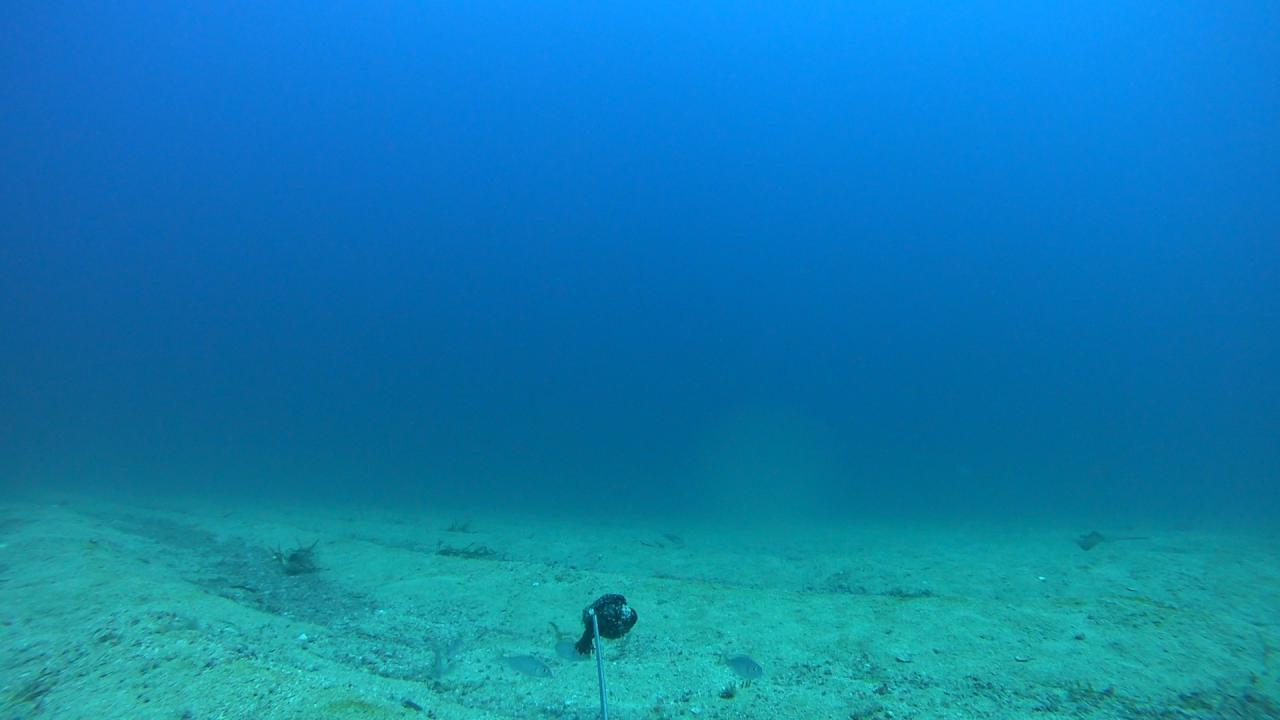dasyatis: (1072, 530, 1150, 550)
pagellus: (482, 652, 554, 678), (718, 653, 767, 681)
